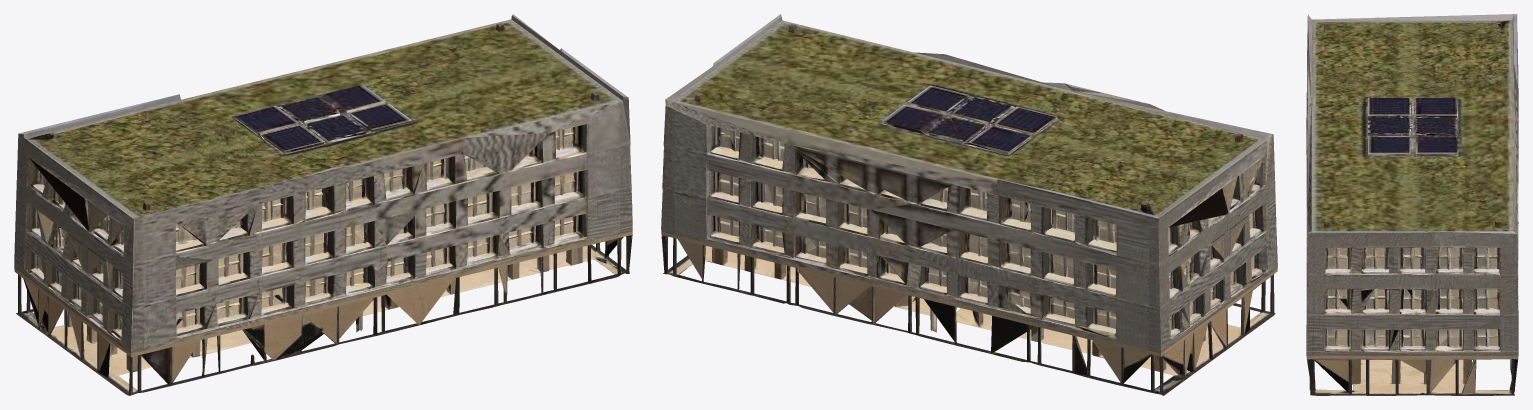
Rendered from campus-block.glb.
3 views of the same model, side by side, from view 1: azimuth 30°, elevation 25°; view 2: azimuth 150°, elevation 25°; view 3: azimuth 270°, elevation 25° (orthographic). The views are drawn at different scales.
Size of the model in its own units: 1.9 by 0.6955 by 0.7671.
1 material, 1 textured.
